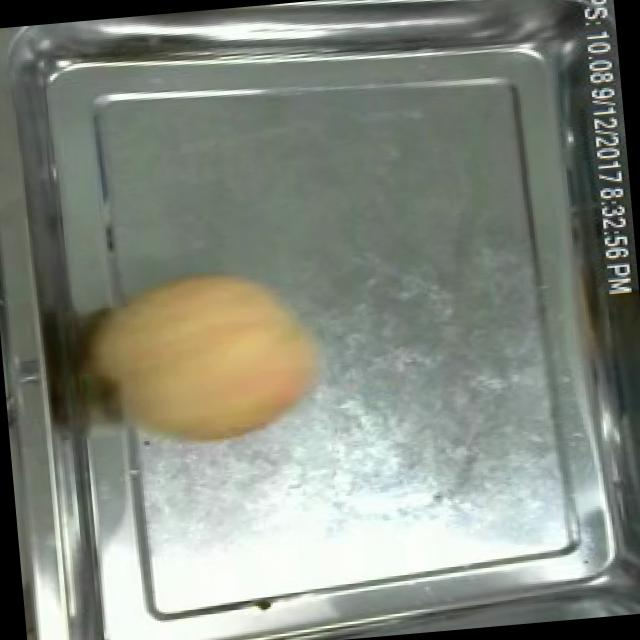Fruit: (82, 252, 336, 464)
